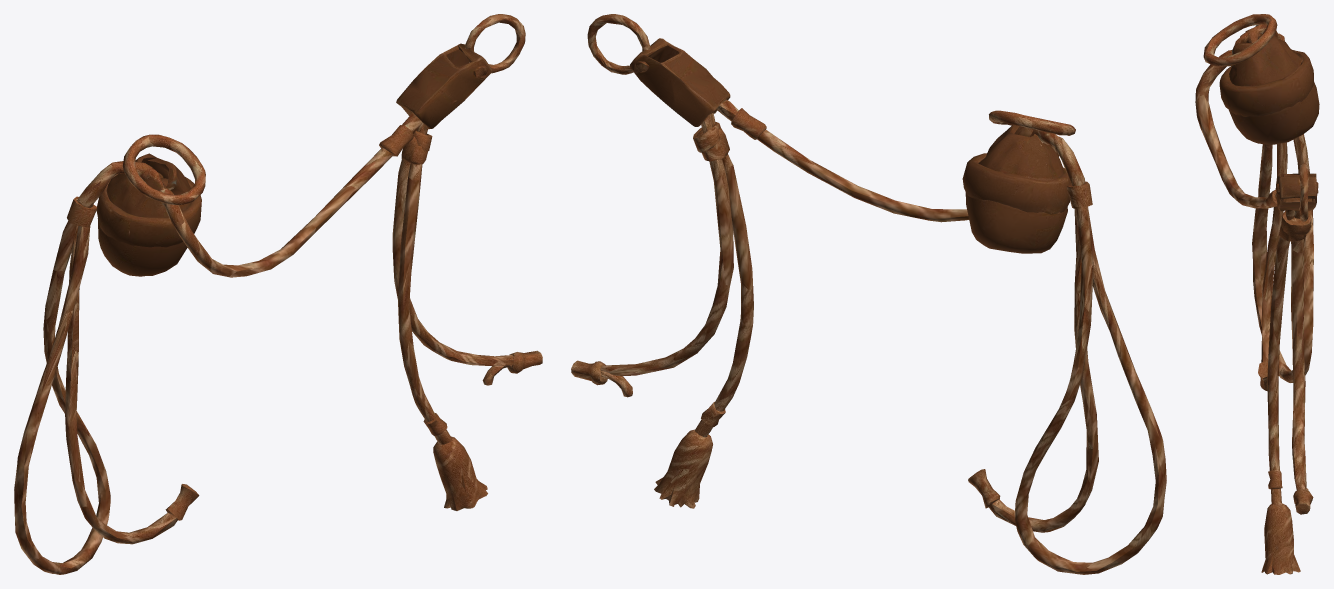
Rendered from gear_sling_0.glb.
The picture shows the model from 3 angles, left to right: view 1: azimuth 30°, elevation 25°; view 2: azimuth 150°, elevation 25°; view 3: azimuth 270°, elevation 25°; orthographic projection. The views are drawn at different scales.
Parts seen in each view (by area): view 1: MeshyGear_gear_sling; view 2: MeshyGear_gear_sling; view 3: MeshyGear_gear_sling.
Boxes of the visible parts, box(x1,y1,x2,y2) form: MeshyGear_gear_sling: box(14, 14, 542, 574); MeshyGear_gear_sling: box(571, 14, 1166, 574); MeshyGear_gear_sling: box(1195, 14, 1319, 574).
Bounding box in the file's own units: 0.6203 × 0.5116 × 0.1332.
1 material, 1 textured.
